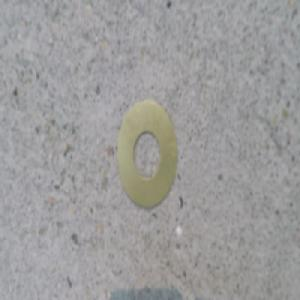Washer: (114, 92, 179, 204)
